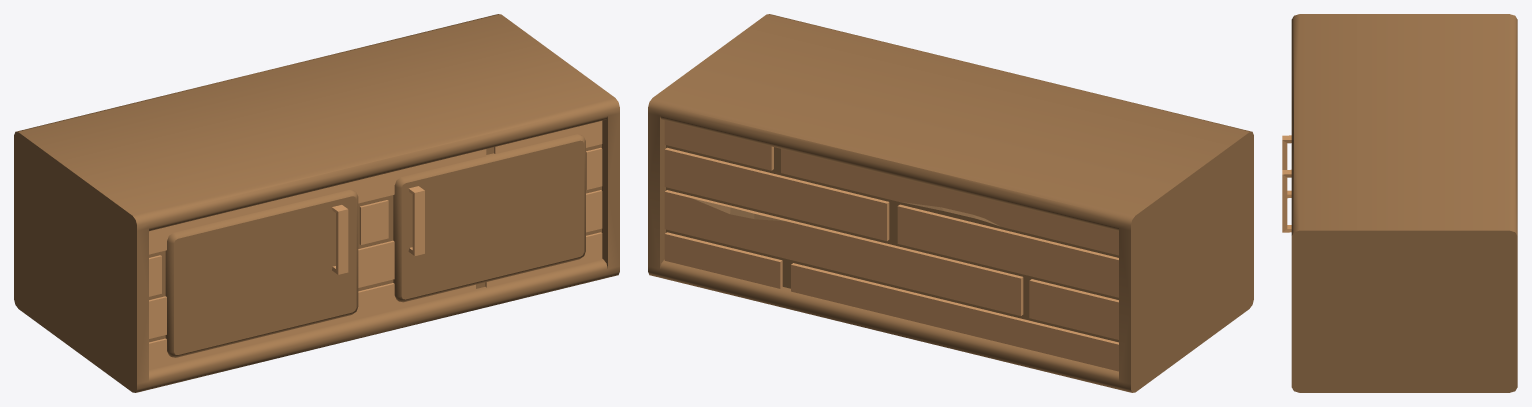
Rendered from Environment_Cabinet_Doors.fbx.
3 views of the same model, side by side, from view 1: azimuth 30°, elevation 25°; view 2: azimuth 150°, elevation 25°; view 3: azimuth 270°, elevation 25° (orthographic). The views are drawn at different scales.
Visible parts, largest first — view 1: Environment_Cabinet_Doors; view 2: Environment_Cabinet_Doors; view 3: Environment_Cabinet_Doors.
Boxes of the visible parts, <box> form: Environment_Cabinet_Doors: <box>14,14,619,392</box>; Environment_Cabinet_Doors: <box>648,14,1253,392</box>; Environment_Cabinet_Doors: <box>1282,14,1517,392</box>.
Bounding box in the file's own units: 400 × 140 × 184.
